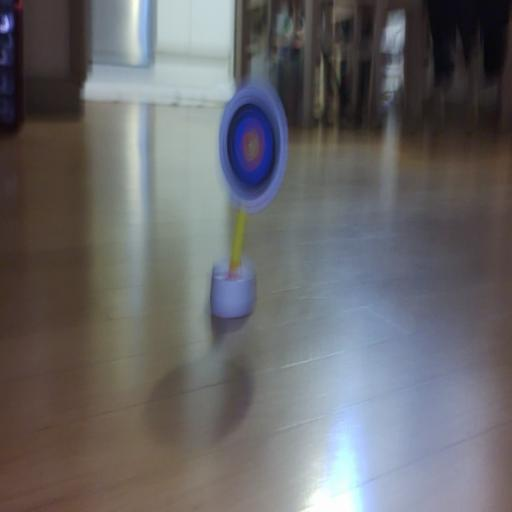target: (219, 82, 288, 213)
